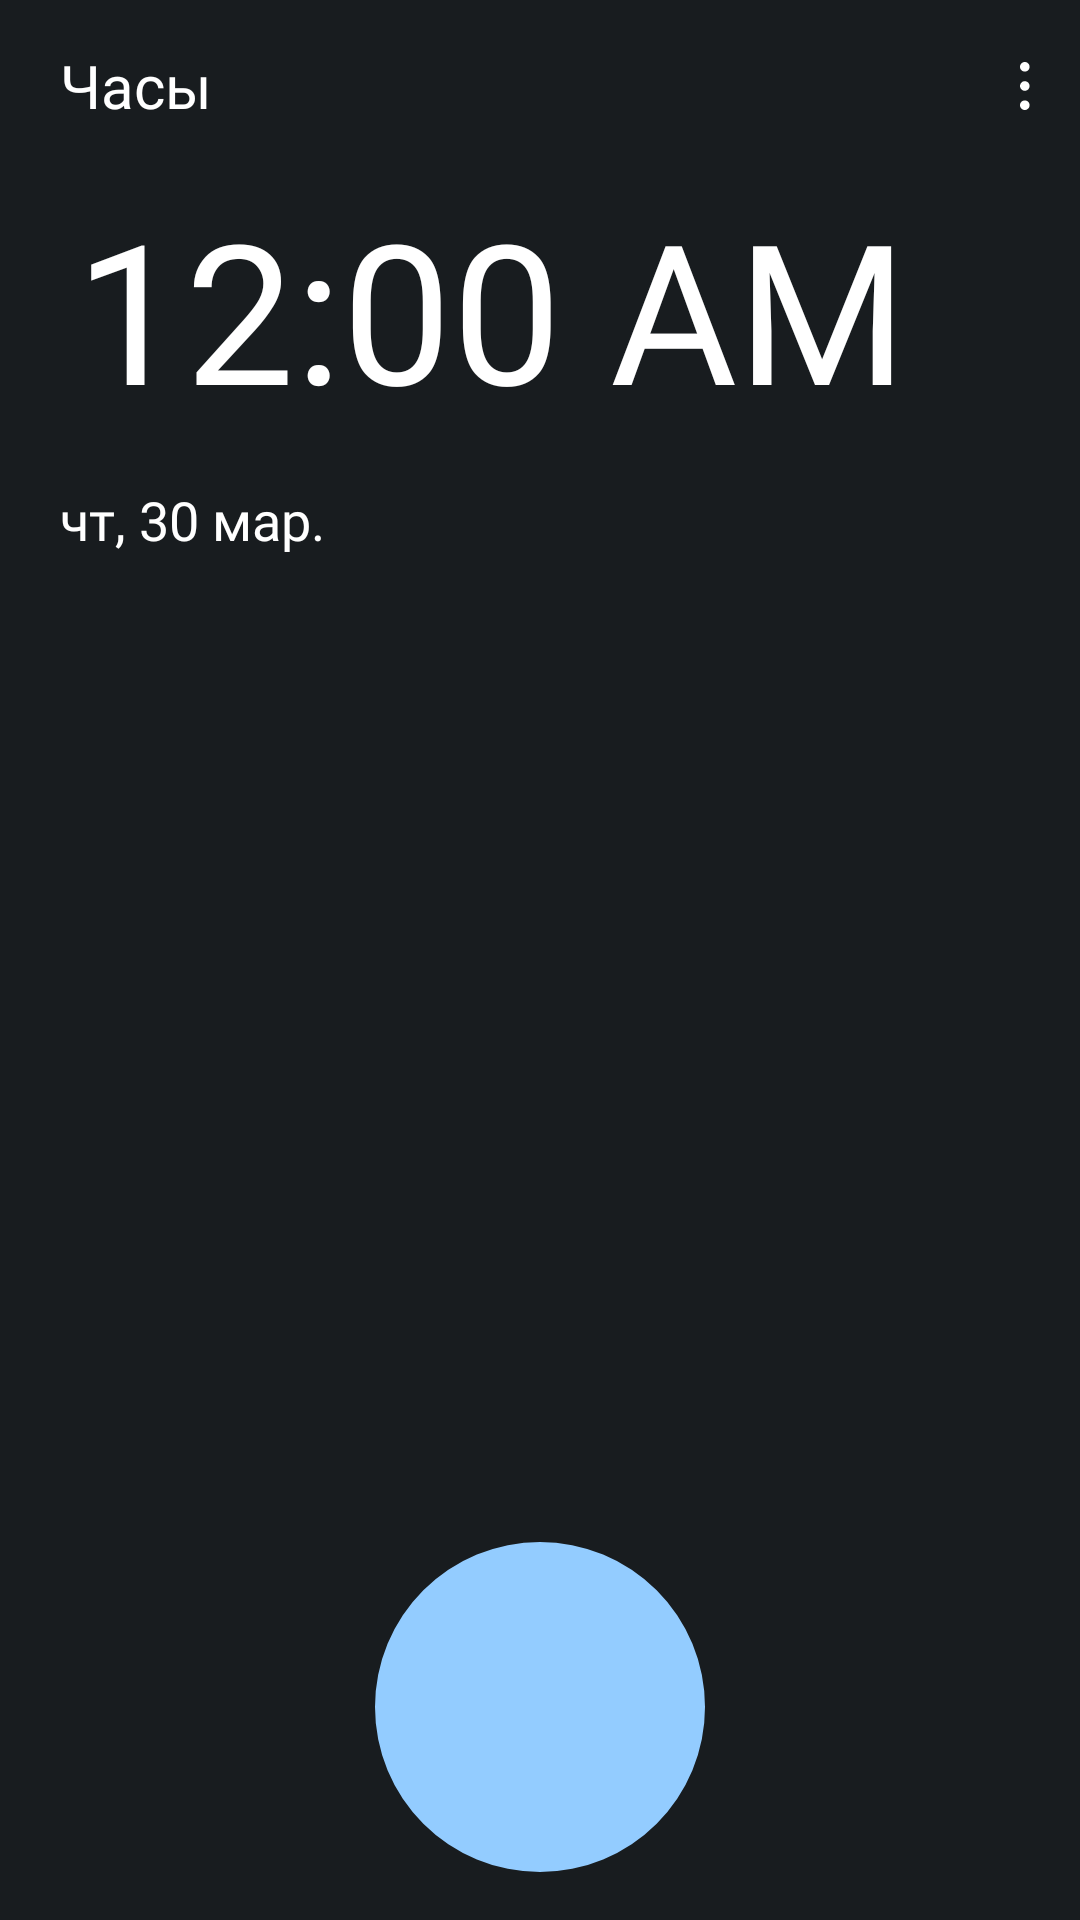

Named icons in this screenshot (1080 x 1920) and their bounding boxes, (x1,y1,x2,y2):
menu: (1020,62,1030,110)
